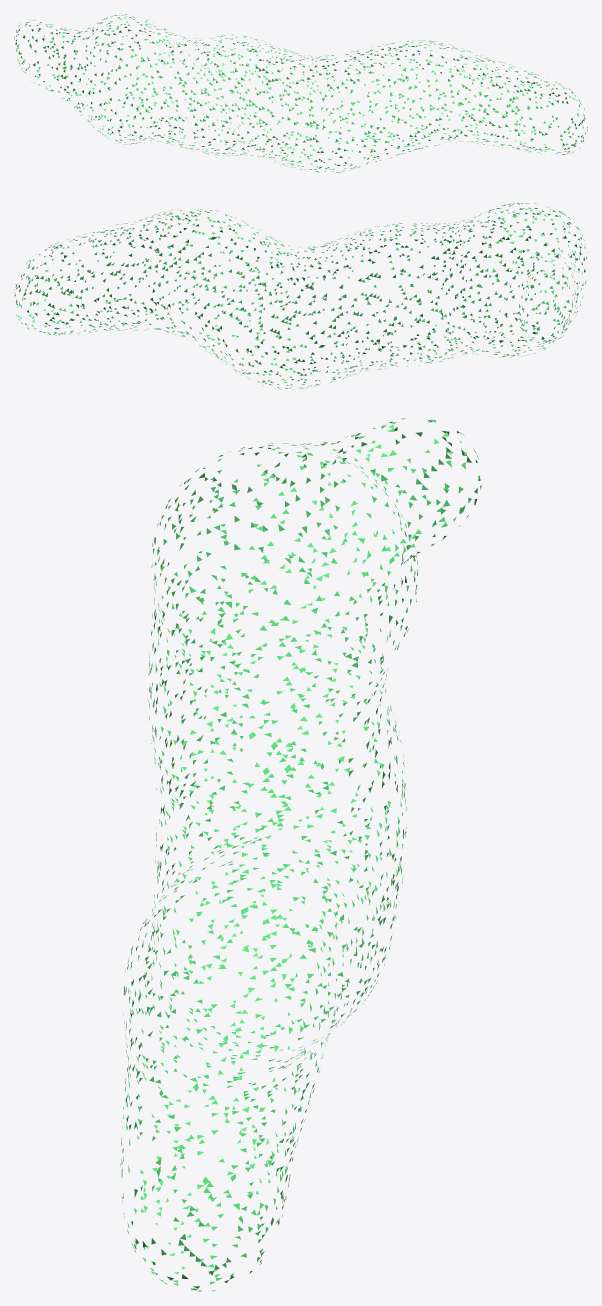
File: morph_020.glb
3 renders of one model, top to bottom at view 1: azimuth 30°, elevation 25°; view 2: azimuth 150°, elevation 25°; view 3: azimuth 270°, elevation 25°, orthographic. The views are drawn at different scales.
Size of the model in its own units: 118 by 48.38 by 36.73.
